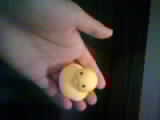duck: (49, 54, 102, 115)
